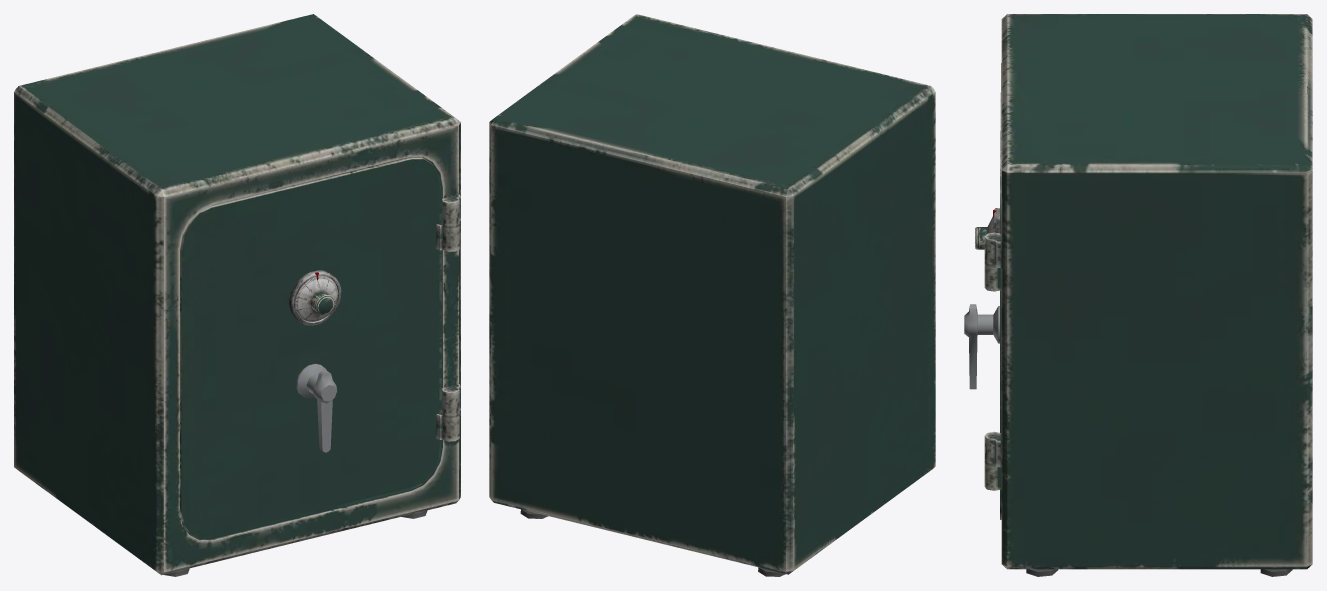
Rendered from safe_closed.glb.
3 views of the same model, side by side, from view 1: azimuth 30°, elevation 25°; view 2: azimuth 150°, elevation 25°; view 3: azimuth 270°, elevation 25° (orthographic). The views are drawn at different scales.
Visible parts, largest first — view 1: Object_2; view 2: Object_2; view 3: Object_2.
Part boxes in pixels (x1=…): Object_2: x1=14, y1=14, x2=460, y2=576; Object_2: x1=489, y1=14, x2=935, y2=576; Object_2: x1=964, y1=14, x2=1312, y2=576.
Size of the model in its own units: 0.4193 by 0.5255 by 0.3957.
Materials: 1 (1 with a texture image).
